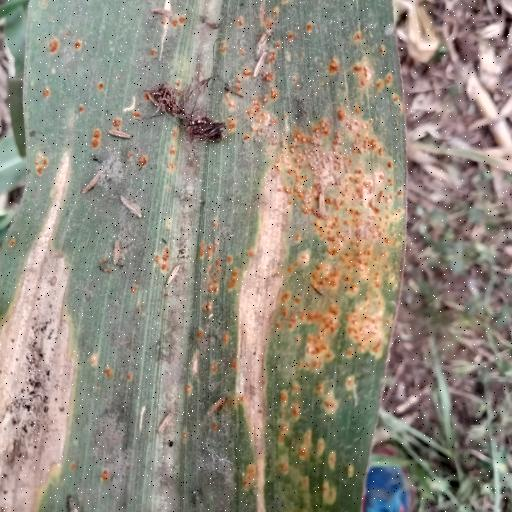Corn_Rust: (6, 0, 422, 512)
